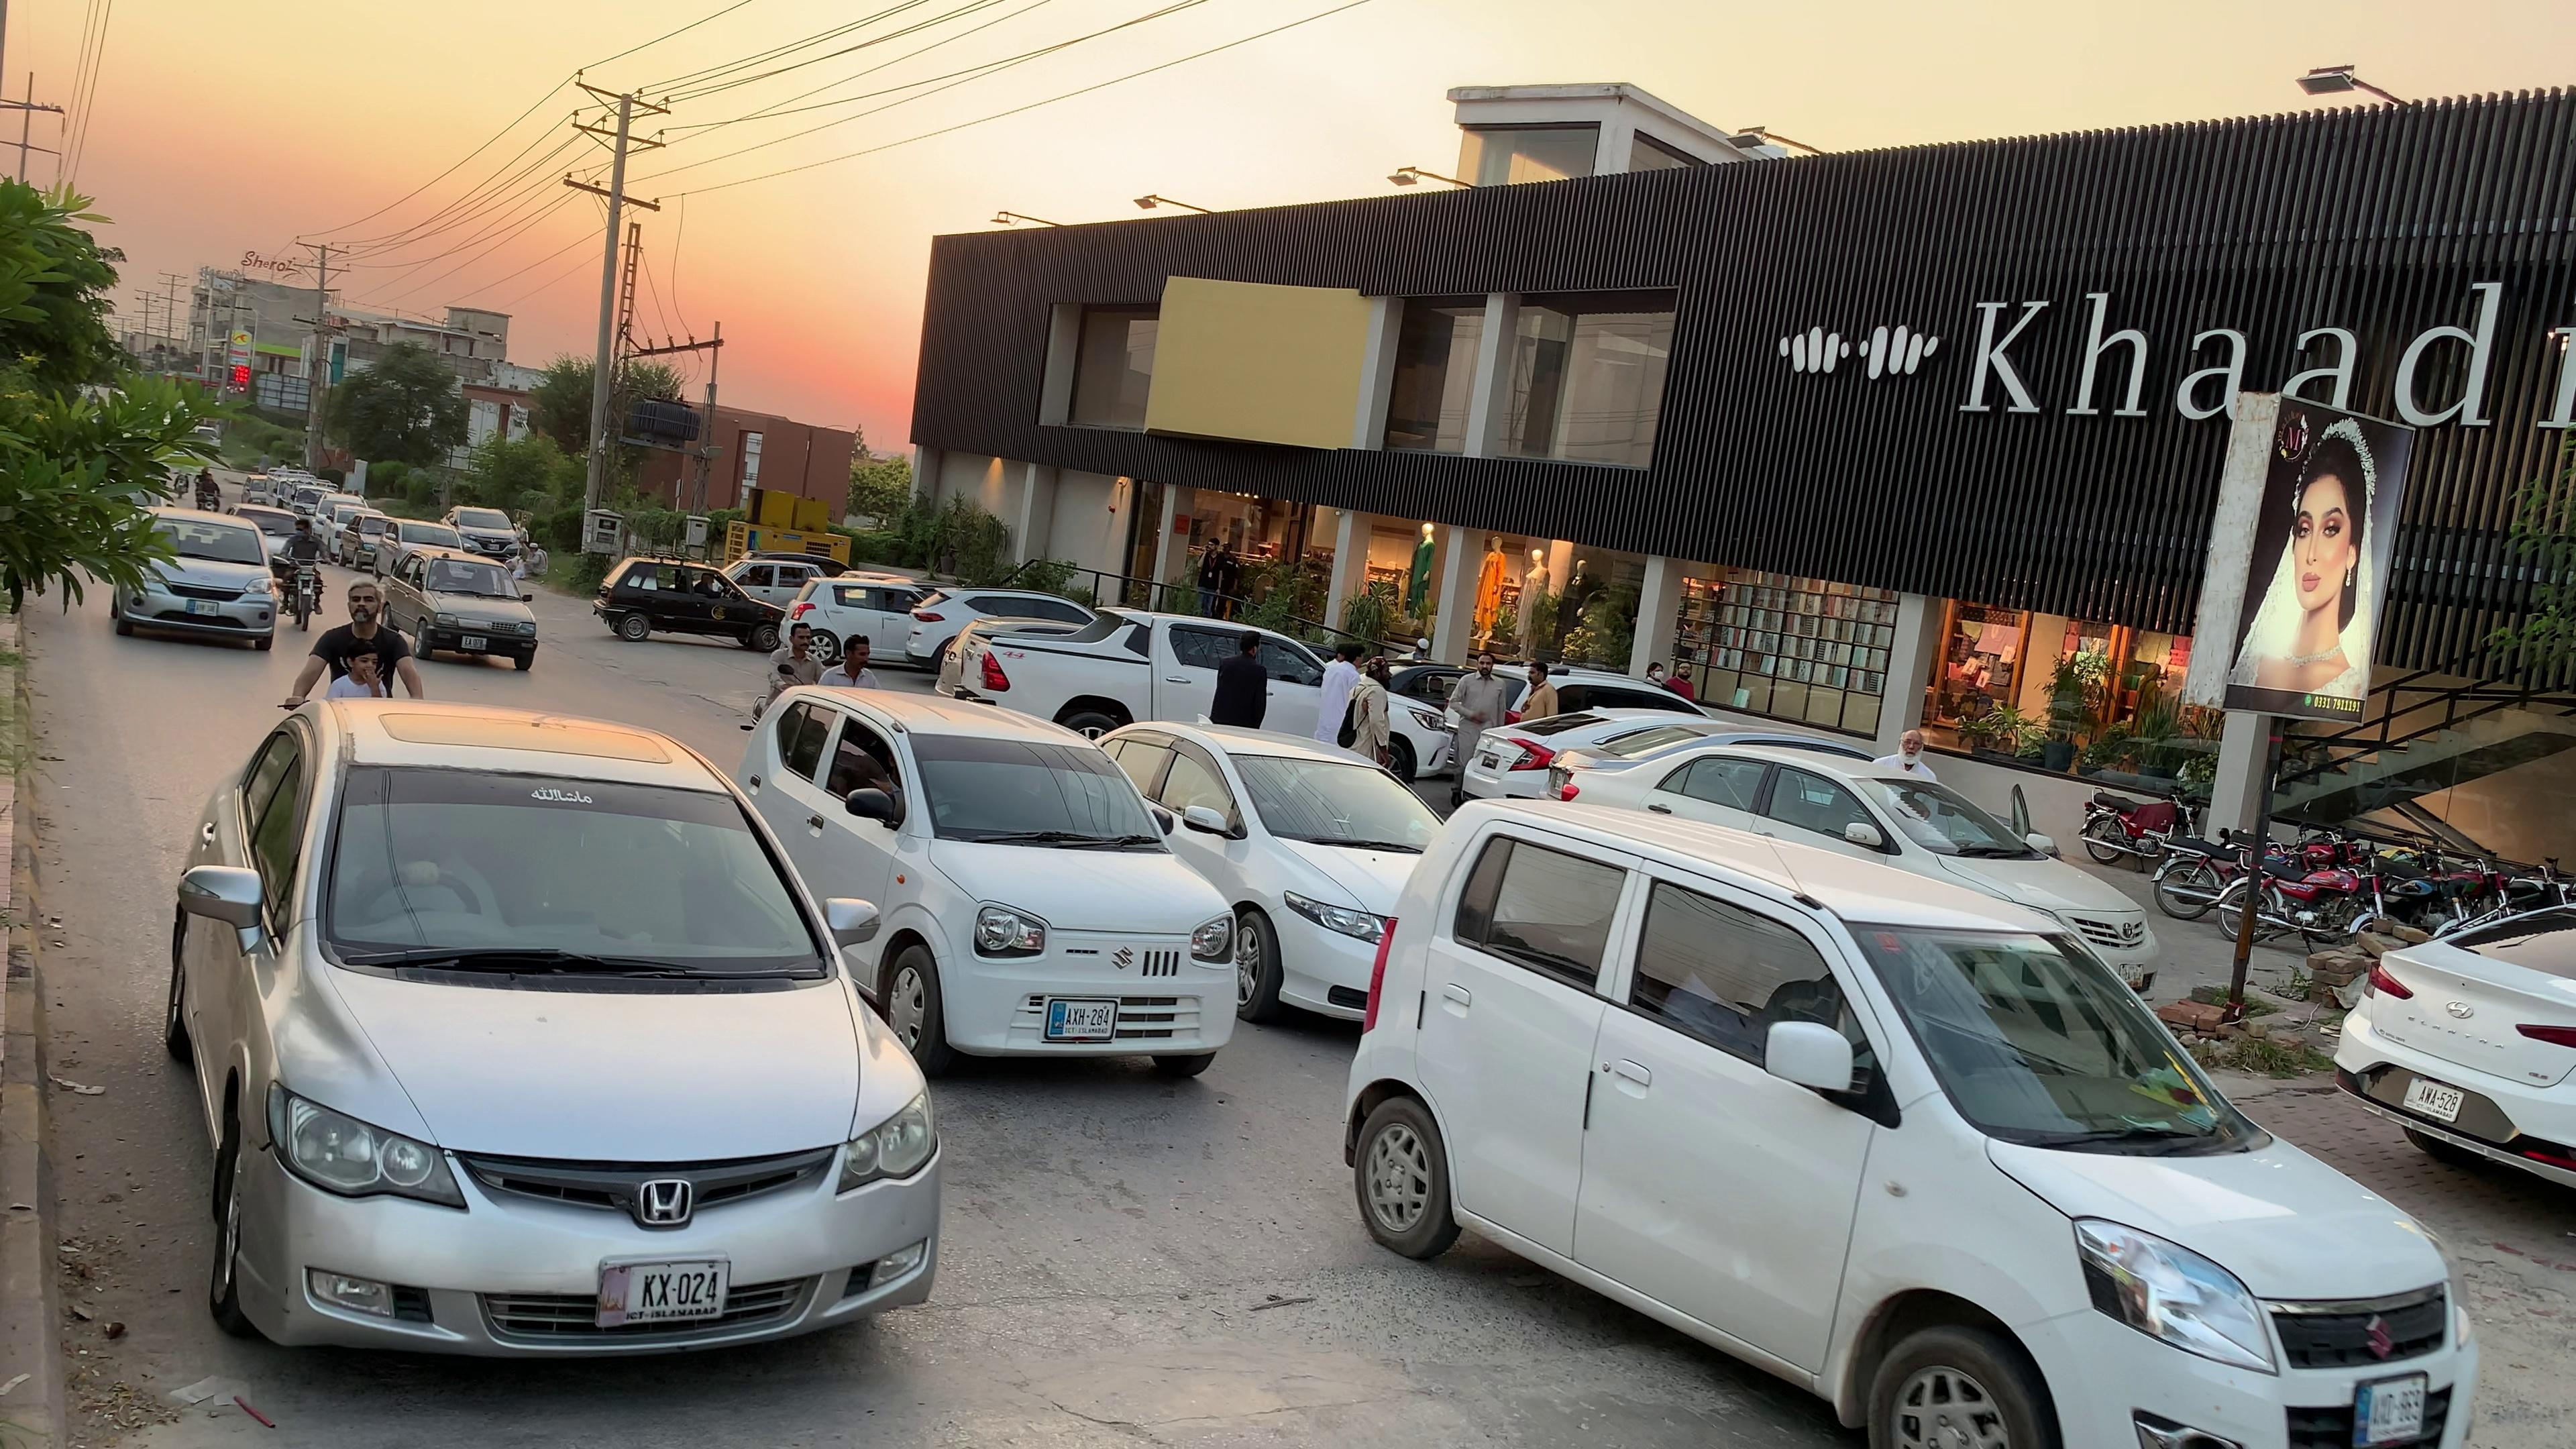windshield: (299, 745, 853, 1000), (1815, 902, 2305, 1168), (897, 715, 1182, 853)
